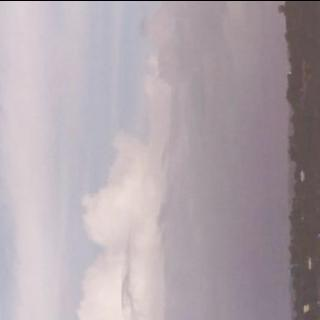Cirrostratus: (0, 0, 288, 320)
